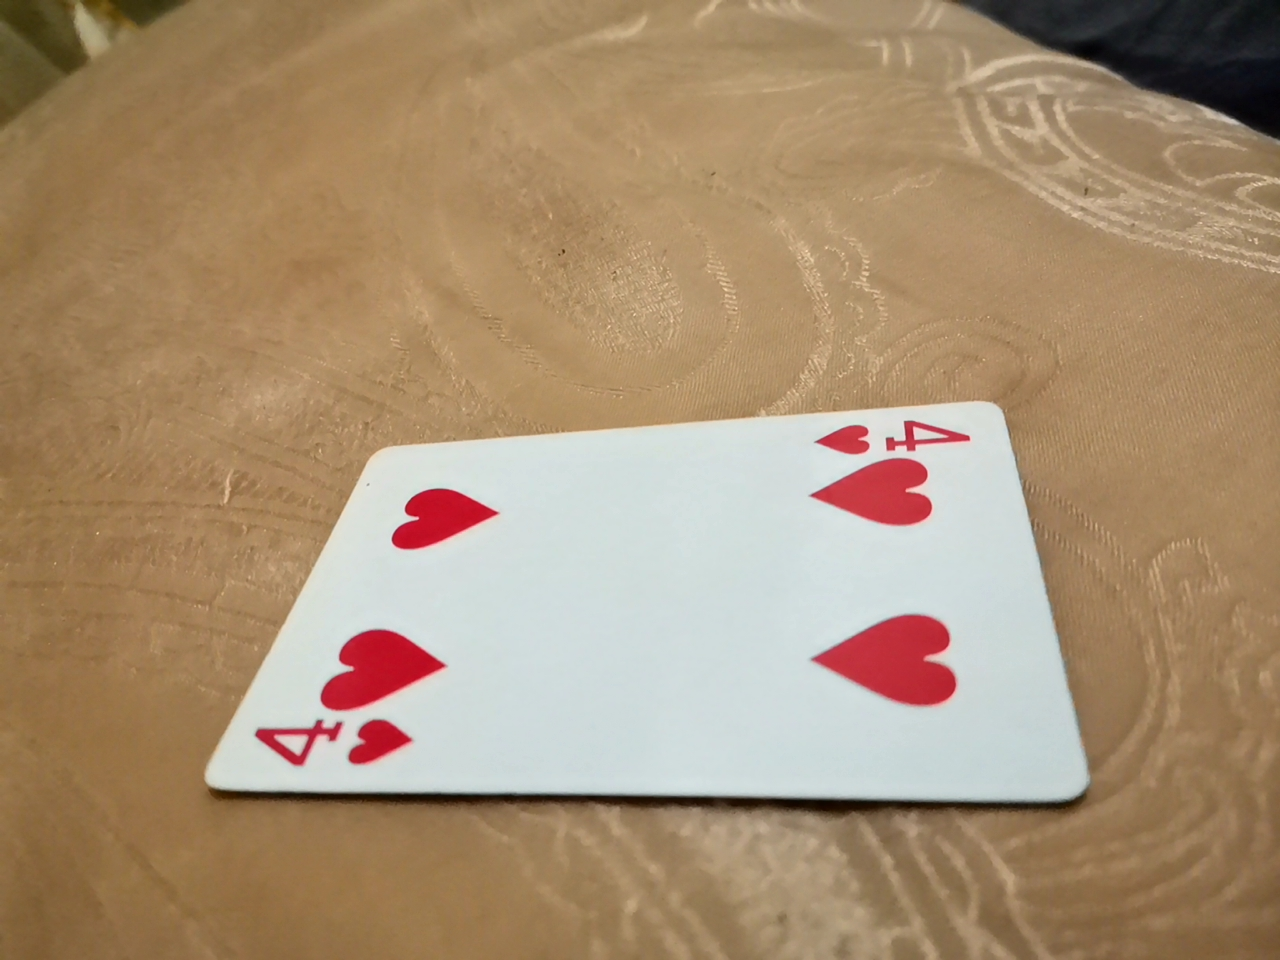hx 4: (217, 414, 1103, 821)
